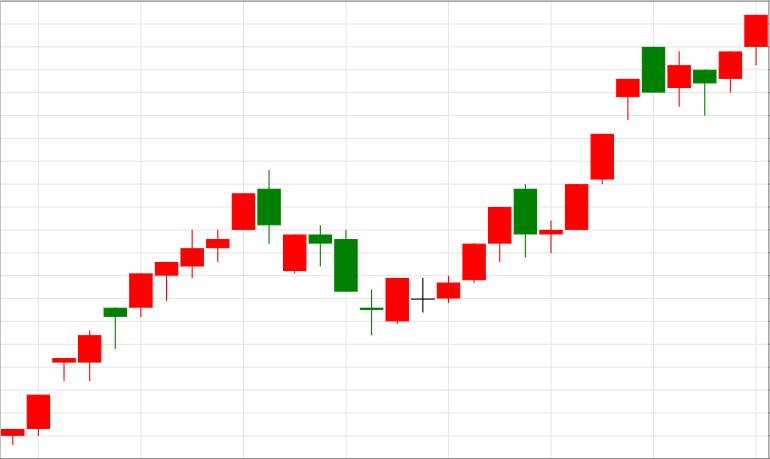bearish_engulfing_fall: (129, 170, 280, 318)
